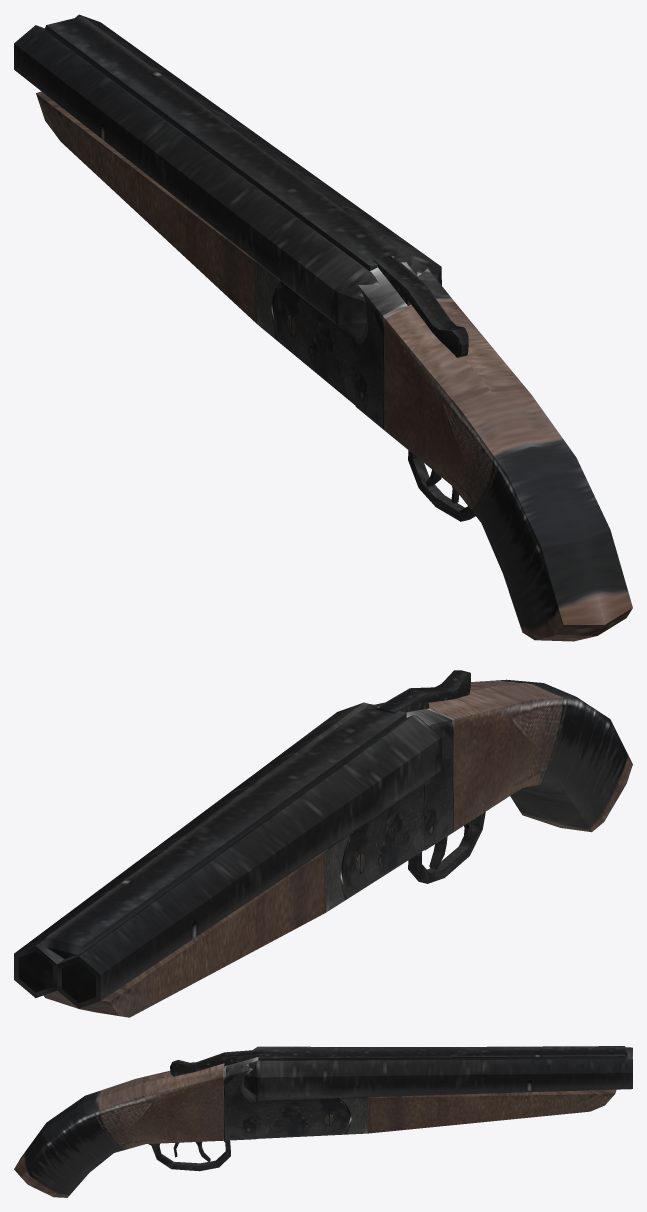
The model's file is DoubleBarrel.glb.
The picture shows the model from 3 angles, top to bottom: view 1: azimuth 30°, elevation 25°; view 2: azimuth 150°, elevation 25°; view 3: azimuth 270°, elevation 25°; orthographic projection. The views are drawn at different scales.
Parts seen in each view (by area): view 1: Body, Thing?; view 2: Body, Thing?; view 3: Body, Thing?.
Boxes of the visible parts, box(x1,y1,x2,y2) form: Body: box(14, 14, 632, 641); Thing?: box(373, 255, 468, 357); Body: box(14, 679, 632, 1017); Thing?: box(376, 670, 470, 713); Body: box(14, 1046, 632, 1197); Thing?: box(170, 1049, 262, 1076).
Bounding box in the file's own units: 0.0572 × 0.1305 × 0.5188.
Materials: 1 (1 with a texture image).
